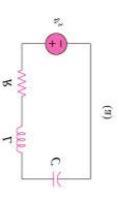inductor: (9, 120, 31, 159)
